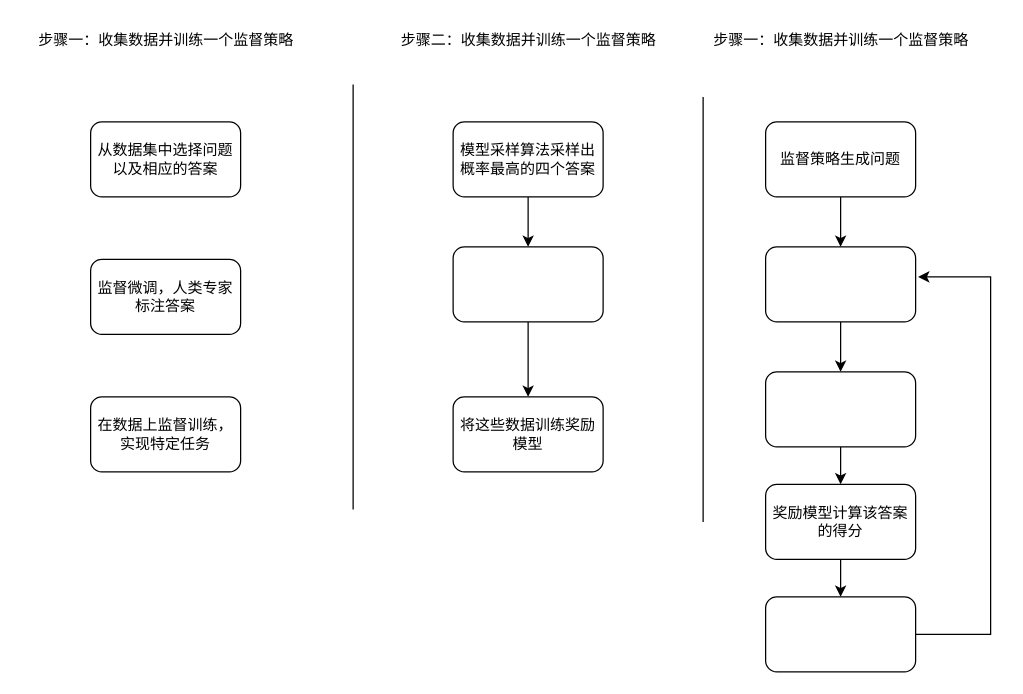
Some shapes in this 1023 by 694 pixel diagram are drawn without their labels. The centre of each missing label's shape, as x and y in pixels:
"PPO模型根据监督策略参数初始化" belongs at pixel 840 284.
"人工标注排序四个答案的好坏程度" belongs at pixel 527 284.
"根据这个得分通过PPO去更新监督策略的参数" belongs at pixel 840 634.
"监督策略生成答案" belongs at pixel 840 409.
